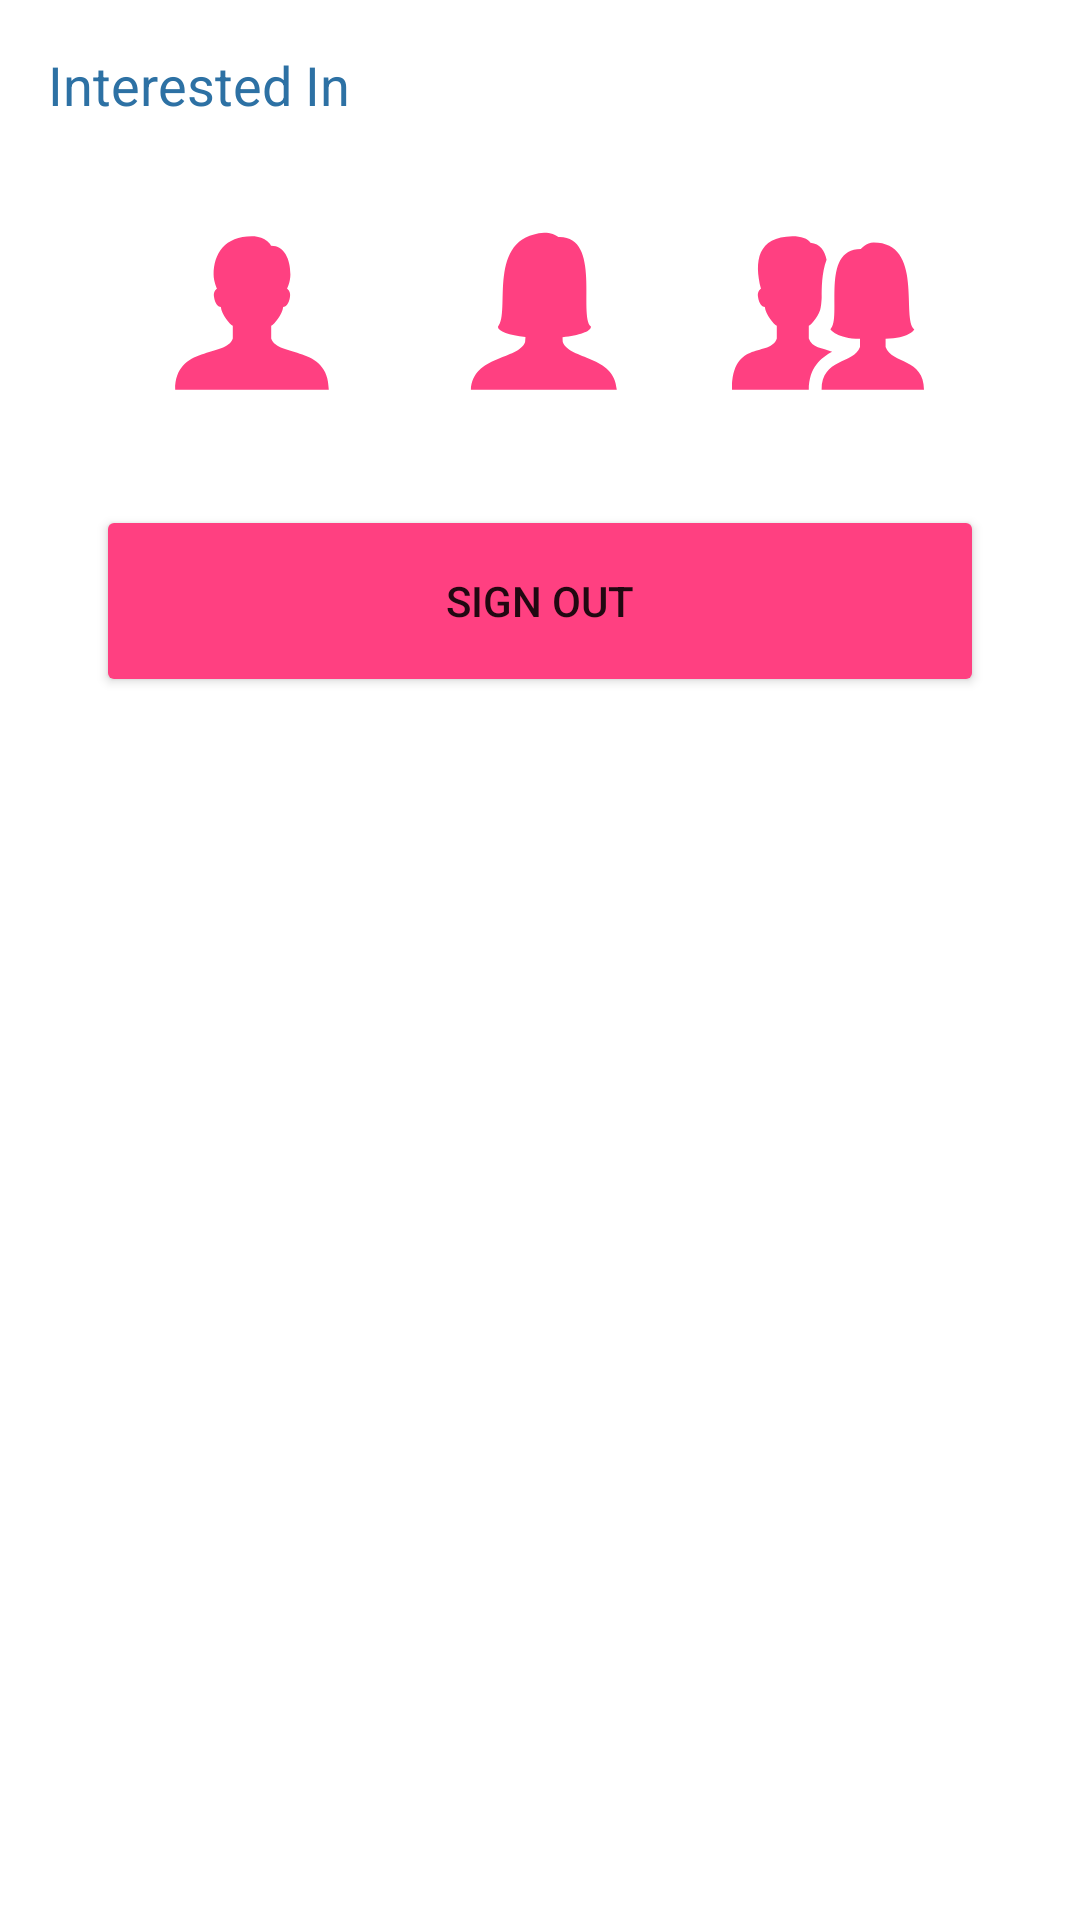

Where icons sit on this 1080*1920 app screen, as (left=x1, top=y1, right=x2, bottom=y2):
female: (left=471, top=232, right=617, bottom=390)
male: (left=175, top=236, right=329, bottom=390)
male female: (left=732, top=236, right=924, bottom=390)
